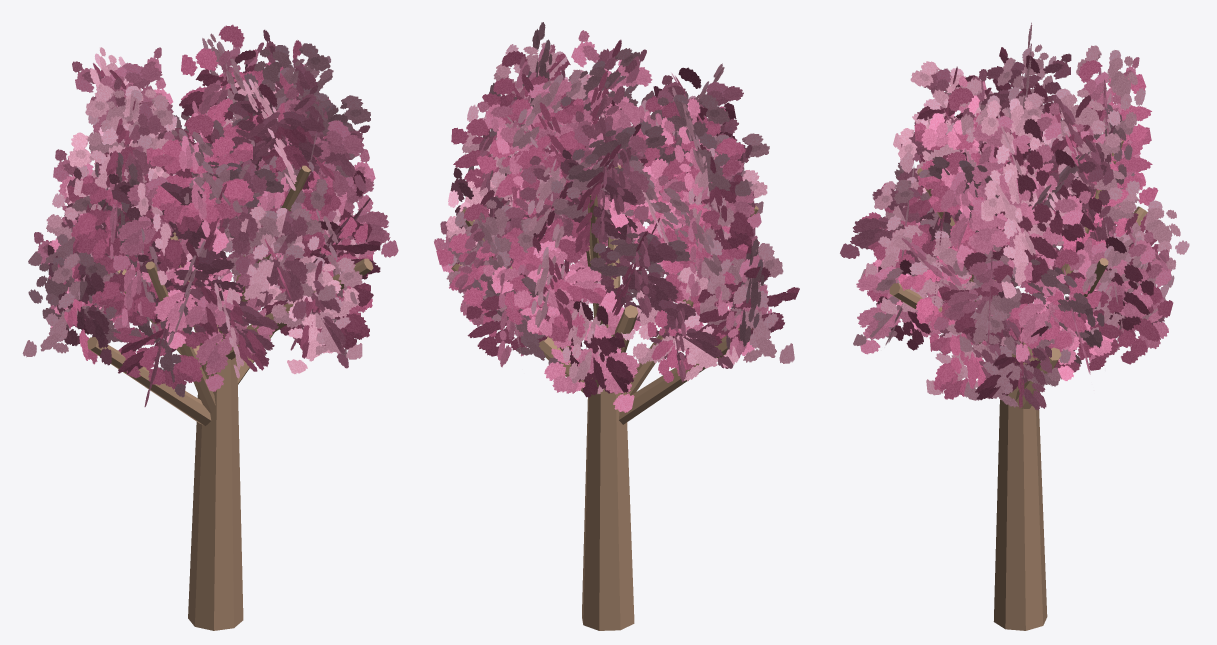
The model's file is PinkLeafTree.glb.
3 views of the same model, side by side, from view 1: azimuth 30°, elevation 25°; view 2: azimuth 150°, elevation 25°; view 3: azimuth 270°, elevation 25° (orthographic).
Parts seen in each view (by area): view 1: Trunk, FoliageCard_06_03, FoliageCard_33_03, FoliageCard_07_00, FoliageCard_32_00, FoliageCard_16_00, FoliageCard_08_03, FoliageCard_17_02, FoliageCard_17_03, FoliageCard_33_00, FoliageCard_17_00, FoliageCard_30_03 (+65 smaller); view 2: Trunk, FoliageCard_12_01, FoliageCard_03_01, FoliageCard_12_00, FoliageCard_32_00, FoliageCard_13_00, FoliageCard_05_00, FoliageCard_04_01, FoliageCard_11_01, FoliageCard_30_01, FoliageCard_30_00, FoliageCard_31_00 (+60 smaller); view 3: Trunk, FoliageCard_29_02, FoliageCard_35_02, FoliageCard_30_02, FoliageCard_10_02, FoliageCard_29_03, FoliageCard_00_02, FoliageCard_10_03, FoliageCard_35_03, FoliageCard_18_02, FoliageCard_08_02, FoliageCard_31_01 (+55 smaller).
Part boxes in pixels (x1,y1,x2,y2): Trunk: (188, 325, 243, 630); FoliageCard_06_03: (112, 295, 212, 389); FoliageCard_33_03: (146, 115, 253, 224); FoliageCard_07_00: (185, 253, 274, 391); FoliageCard_32_00: (73, 85, 177, 196); FoliageCard_16_00: (141, 222, 243, 349); FoliageCard_08_03: (271, 257, 362, 359); FoliageCard_17_02: (245, 207, 307, 319); FoliageCard_17_03: (222, 208, 335, 301); FoliageCard_33_00: (152, 114, 248, 223); FoliageCard_17_00: (226, 206, 319, 304); FoliageCard_30_03: (181, 24, 271, 142); Trunk: (582, 324, 634, 630); FoliageCard_12_01: (482, 235, 616, 336); FoliageCard_03_01: (544, 287, 641, 412); FoliageCard_12_00: (504, 239, 606, 342); FoliageCard_32_00: (640, 94, 751, 196); FoliageCard_13_00: (591, 206, 678, 329); FoliageCard_05_00: (704, 243, 794, 363); FoliageCard_04_01: (621, 267, 738, 381); FoliageCard_11_01: (436, 203, 538, 313); FoliageCard_30_01: (477, 79, 604, 168); FoliageCard_30_00: (500, 75, 585, 172); FoliageCard_31_00: (574, 111, 649, 221); Trunk: (993, 341, 1047, 630); FoliageCard_29_02: (956, 174, 1091, 281); FoliageCard_35_02: (971, 103, 1061, 214); FoliageCard_30_02: (1020, 88, 1121, 188); FoliageCard_10_02: (1006, 248, 1101, 352); FoliageCard_29_03: (982, 165, 1055, 298); FoliageCard_00_02: (964, 309, 1070, 407); FoliageCard_10_03: (1016, 238, 1091, 362); FoliageCard_35_03: (981, 98, 1051, 221); FoliageCard_18_02: (880, 225, 975, 314); FoliageCard_08_02: (856, 259, 952, 354); FoliageCard_31_01: (1065, 45, 1145, 147).
Bounding box in the file's own units: 5 × 7.62 × 4.5.
5 materials, 3 textured.
